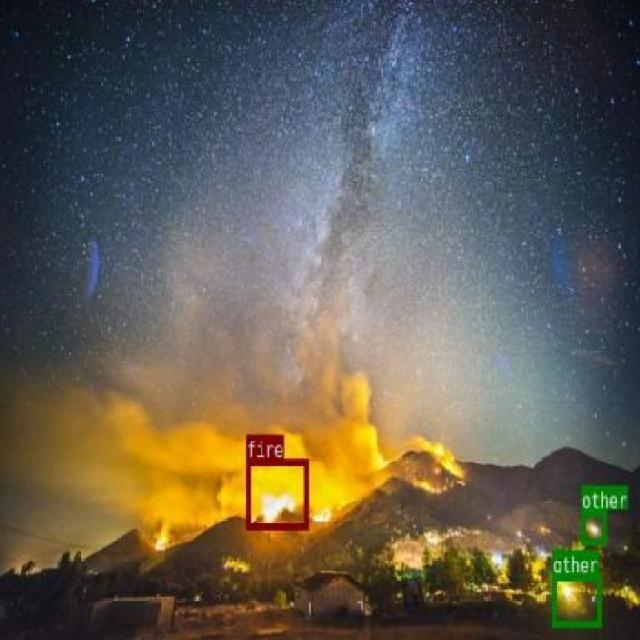Fire: (246, 458, 306, 528)
